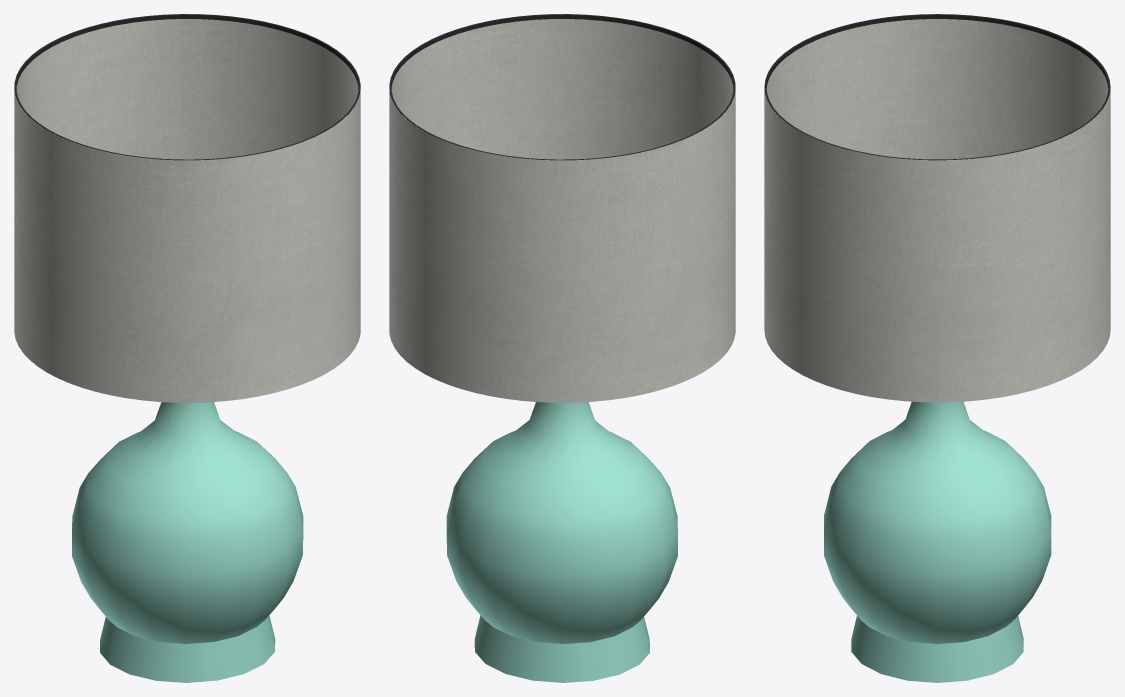
Rendered from Lamp 1.FBX.
3 views of the same model, side by side, from view 1: azimuth 30°, elevation 25°; view 2: azimuth 150°, elevation 25°; view 3: azimuth 270°, elevation 25° (orthographic).
Parts seen in each view (by area): view 1: Lamp 1; view 2: Lamp 1; view 3: Lamp 1.
Boxes of the visible parts, x1=… form: Lamp 1: x1=14, y1=14, x2=360, y2=682; Lamp 1: x1=389, y1=14, x2=735, y2=682; Lamp 1: x1=764, y1=14, x2=1110, y2=682.
Bounding box in the file's own units: 28.18 × 50.08 × 28.18.
Materials: 3 (2 with a texture image).
